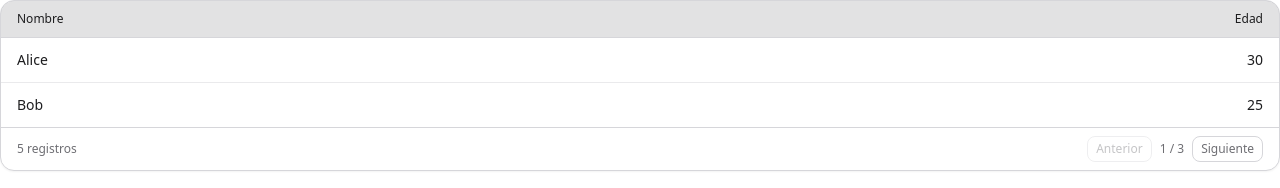
Test case: DataTable › navigates to previous page
Click the button "Siguiente". click: (1228, 149)
box: [1192,136,1263,162]
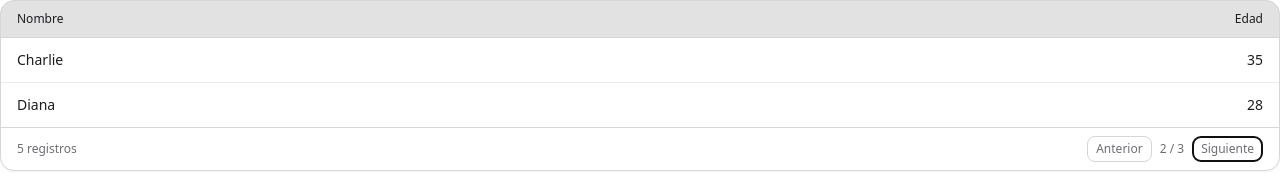
Click the button "Anterior". click: (1119, 149)
box: [1087,136,1152,162]
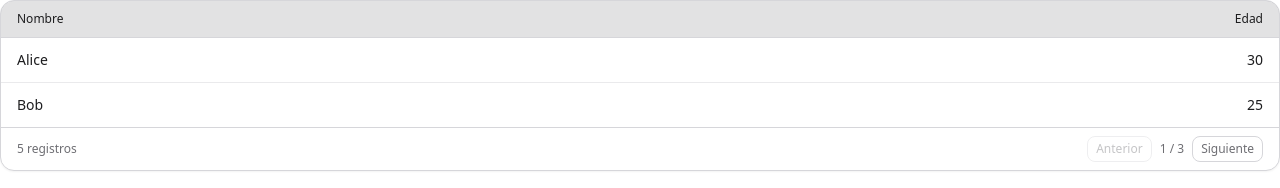
Now the text "1 / 3" is shown, box [1160,141,1184,157]
Now the text "Alice" is shown, box [1,38,724,82]
